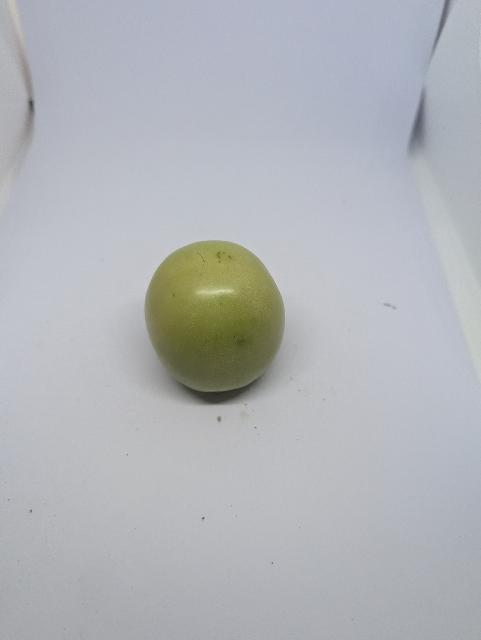green: (142, 235, 287, 395)
